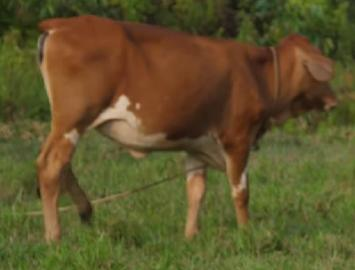cow: (35, 15, 338, 244)
